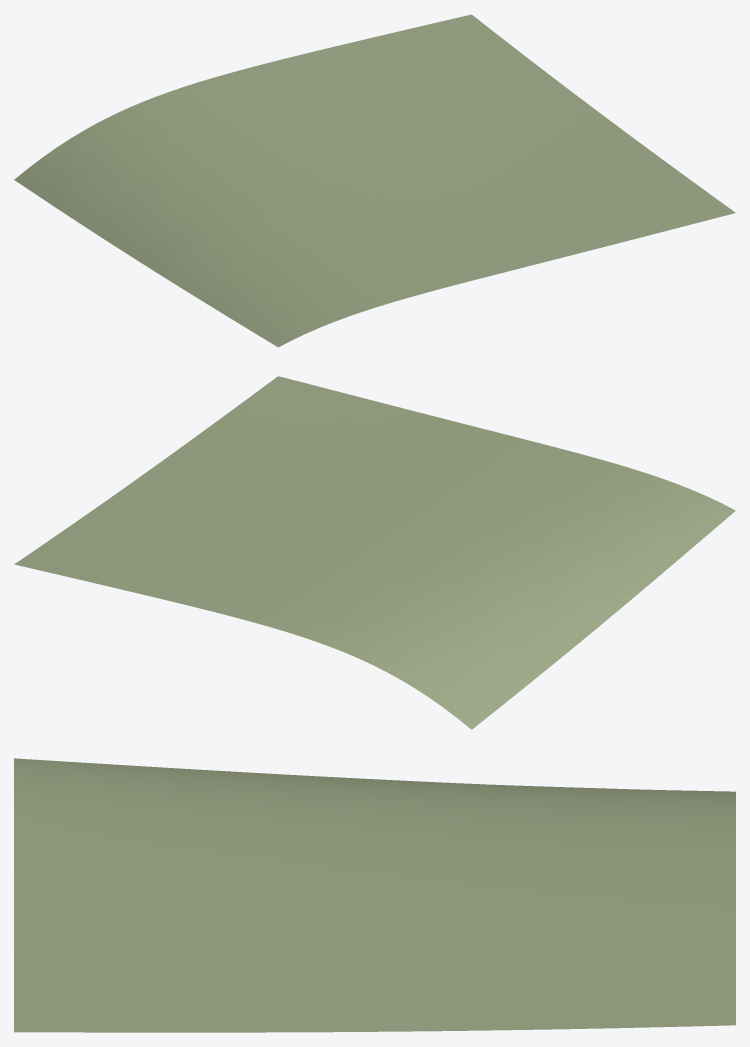
The model's file is expanse-15-11.glb.
3 views of the same model, one above another, from view 1: azimuth 30°, elevation 25°; view 2: azimuth 150°, elevation 25°; view 3: azimuth 270°, elevation 25° (orthographic). The views are drawn at different scales.
Parts seen in each view (by area): view 1: expanse-15-11; view 2: expanse-15-11; view 3: expanse-15-11.
Boxes of the visible parts, x1,y1,x2,y2 form: expanse-15-11: [14, 14, 735, 347]; expanse-15-11: [14, 376, 735, 729]; expanse-15-11: [14, 758, 735, 1032].
Bounding box in the file's own units: 256 × 29.46 × 256.
